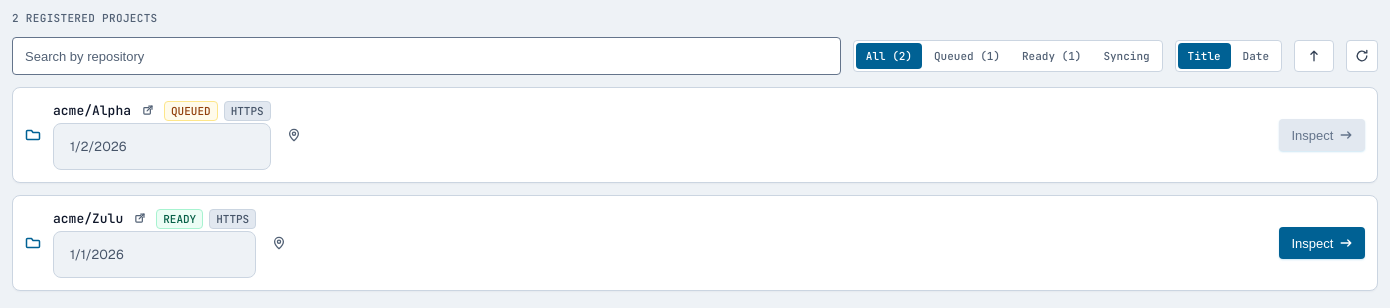
Test: ProjectList › filters by status tab
Expected: the button "acme/Zulu" is shown, [53, 210, 123, 227]
What coordinates should you click on to do the following:
click the tab "Queued (1)"
I would click on:
 (967, 56)
Its box is [924, 43, 1010, 69].
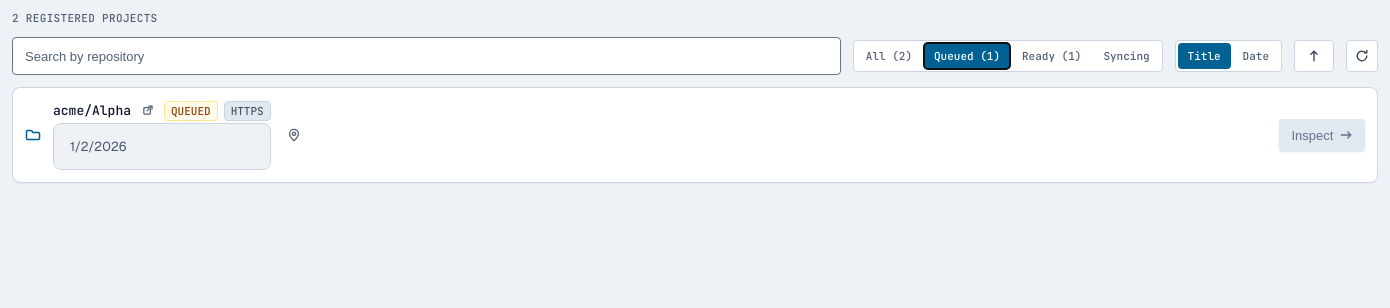
Expected: the button "acme/Alpha" is shown, [53, 102, 131, 119]
Expected: the button "acme/Zulu" is gone
